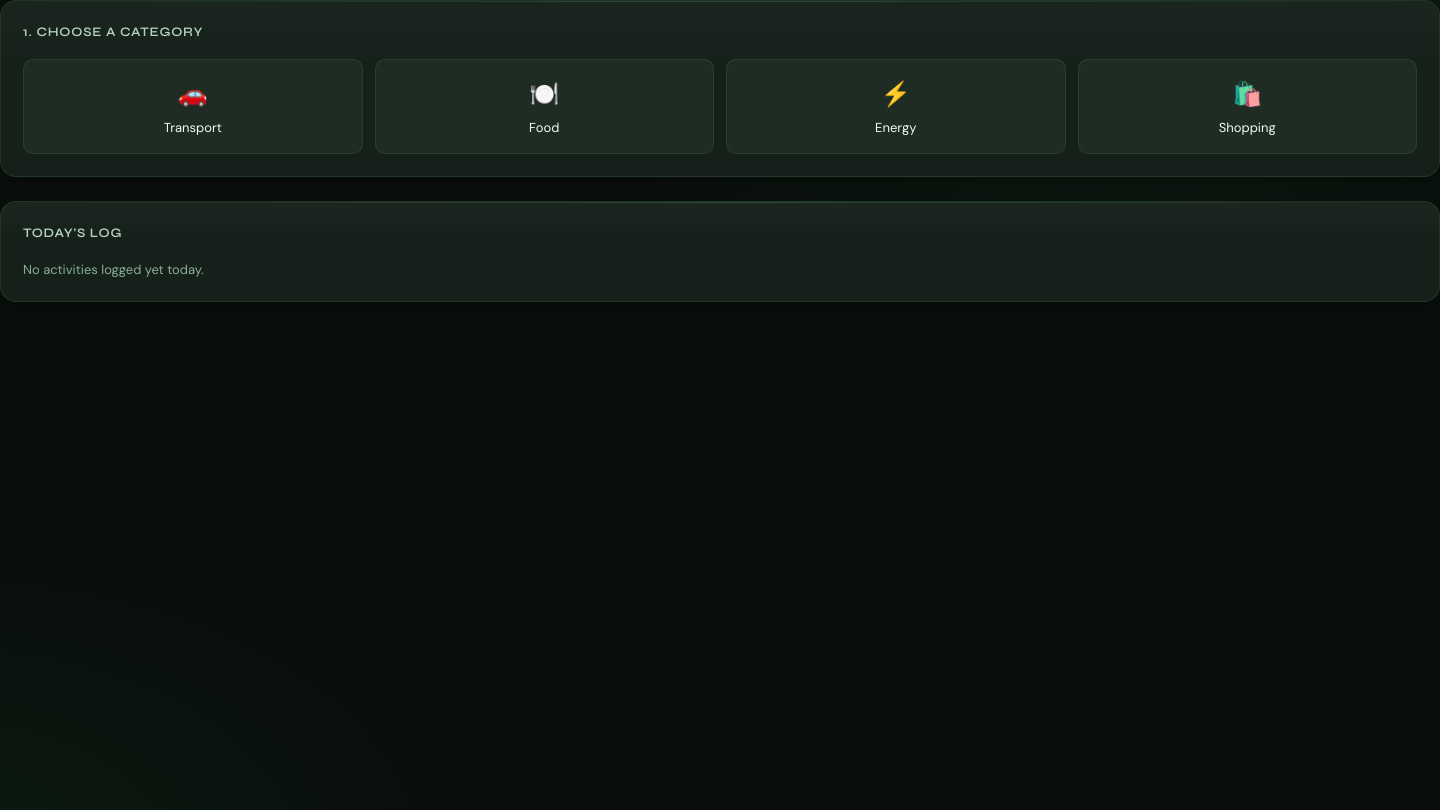
Test: ActivityLogger › still logs the entry and shows a degraded message when the tip service responds non-ok
Click the radio button labelled "🚗 Transport". click: (193, 106)
box: [23,58,362,154]
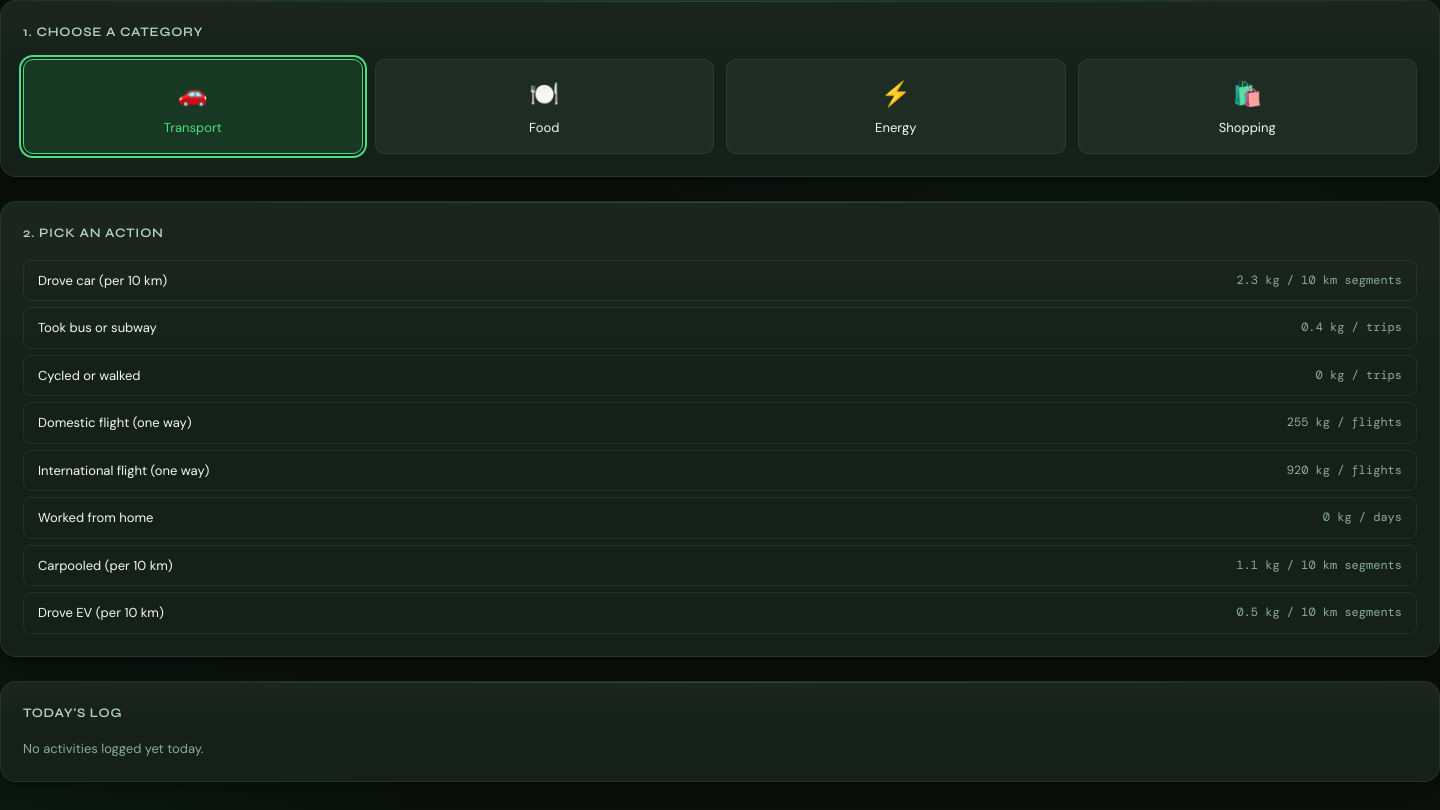
Expected: the list is shown, [23,260,1417,634]
Click the option "Drove car (per 10 km) 2.3 kg / 10 km segments". click: (103, 280)
box: [23,260,1417,301]
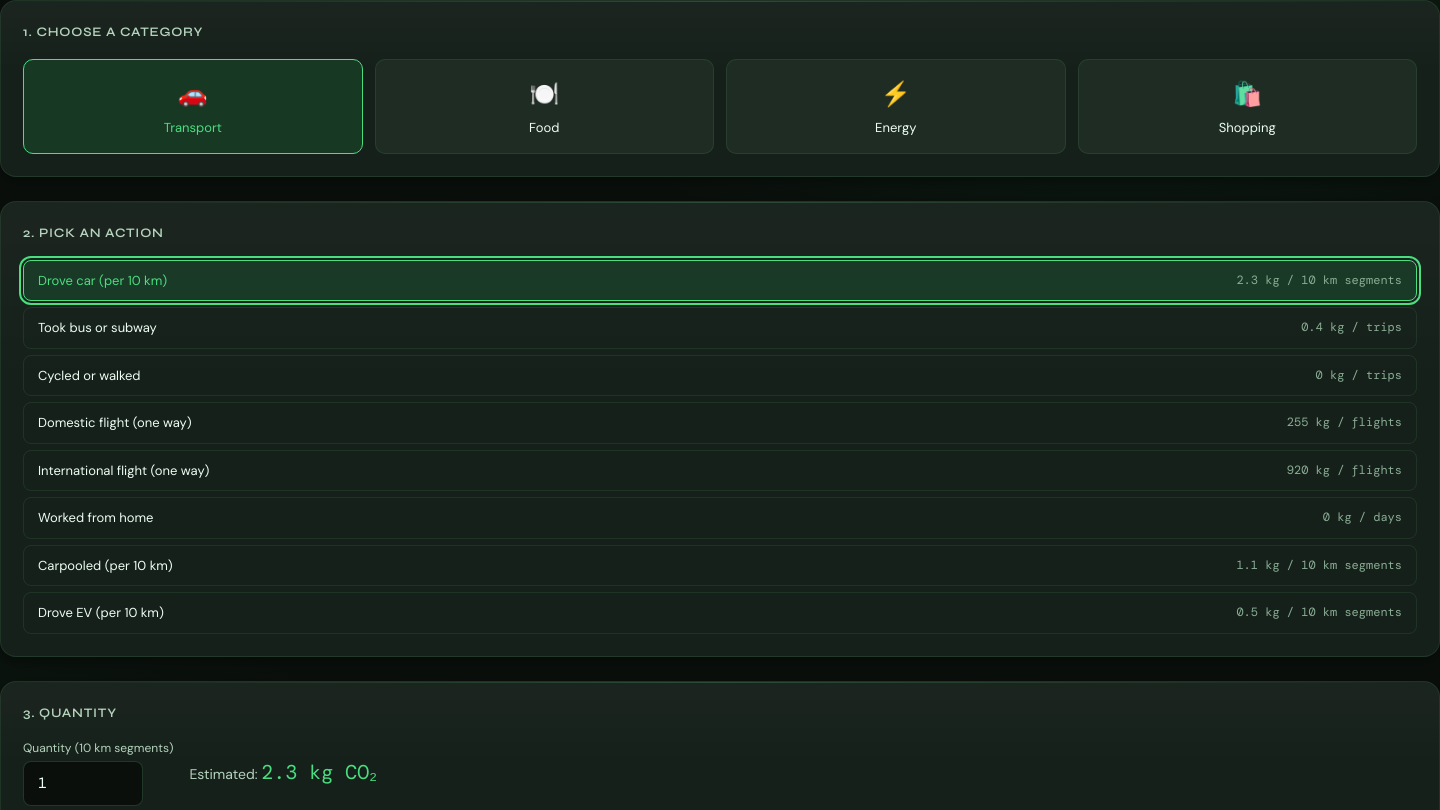
Replace the text in the number field named "quantity in" with "2". click: (83, 783)
box: [23,761,143,806]
(page scrolled)
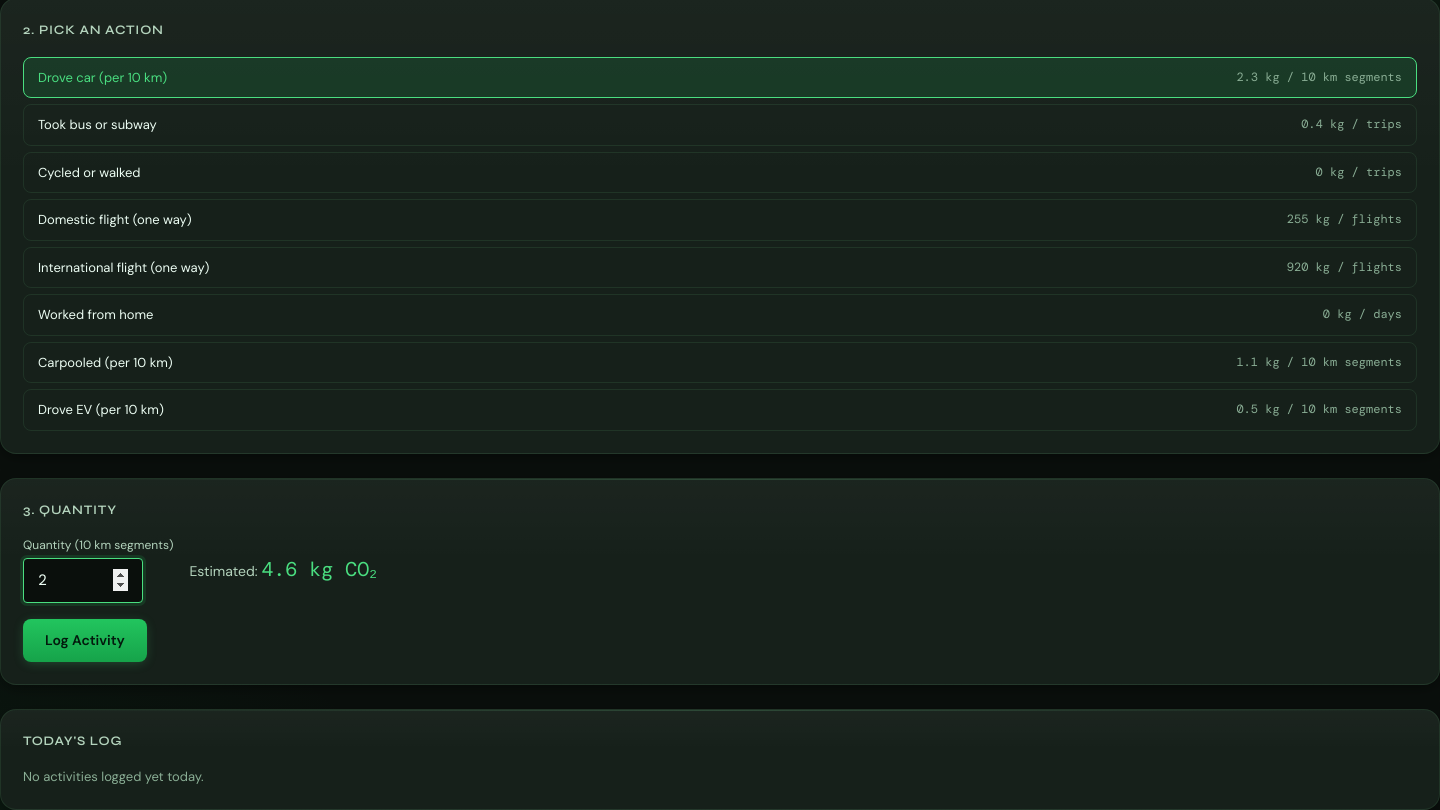
Click the button "Log Activity". click: (85, 640)
box: [23,618,147,662]
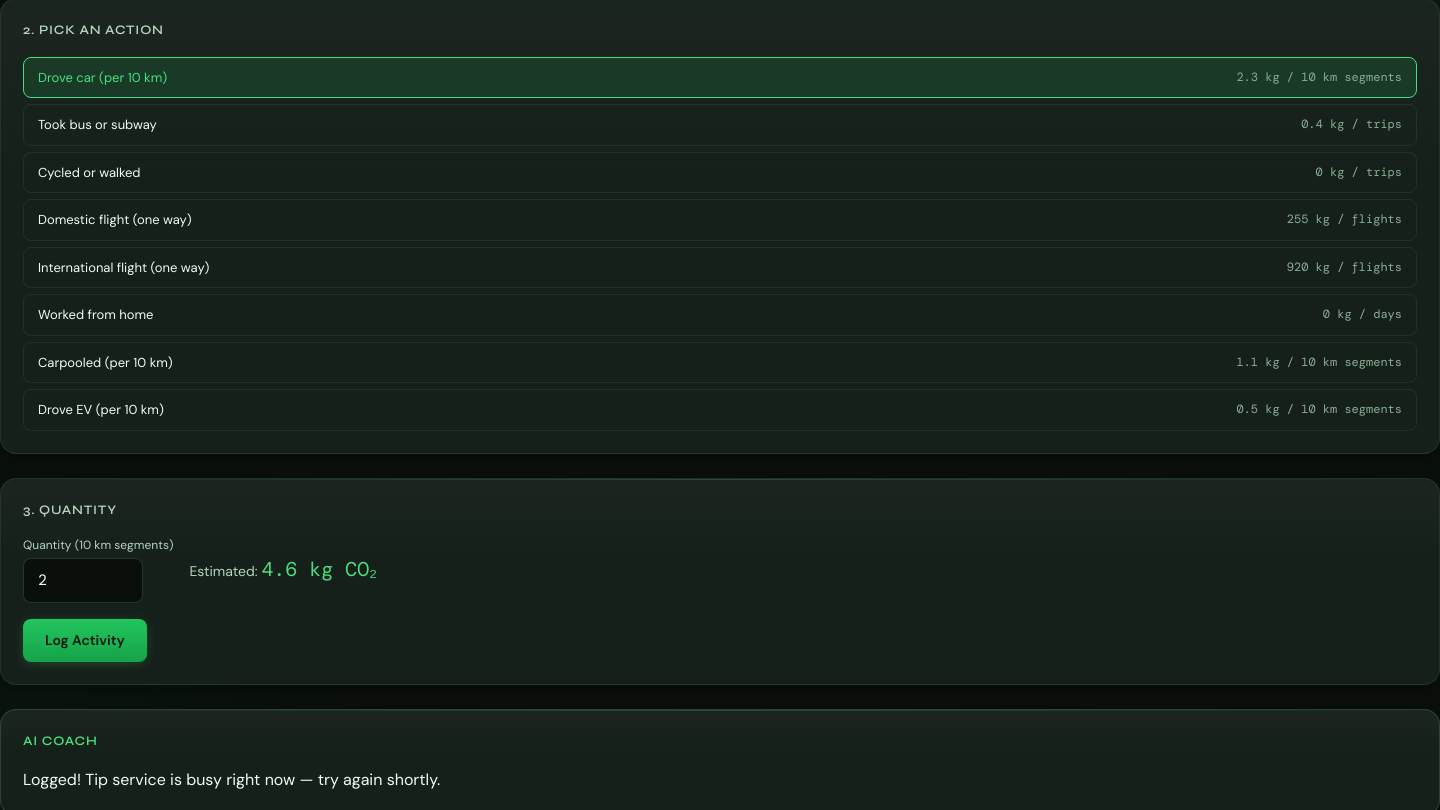
Expected: the text "Logged! Tip service is busy right now — try again shortly." is shown, [23,769,440,790]
